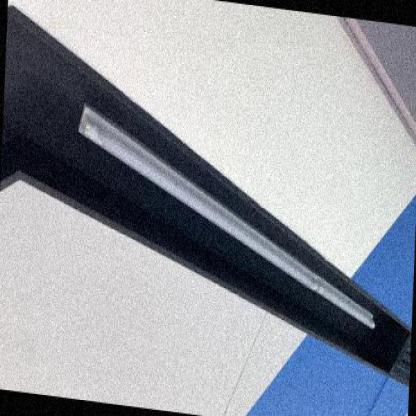light_off: (67, 88, 390, 342)
